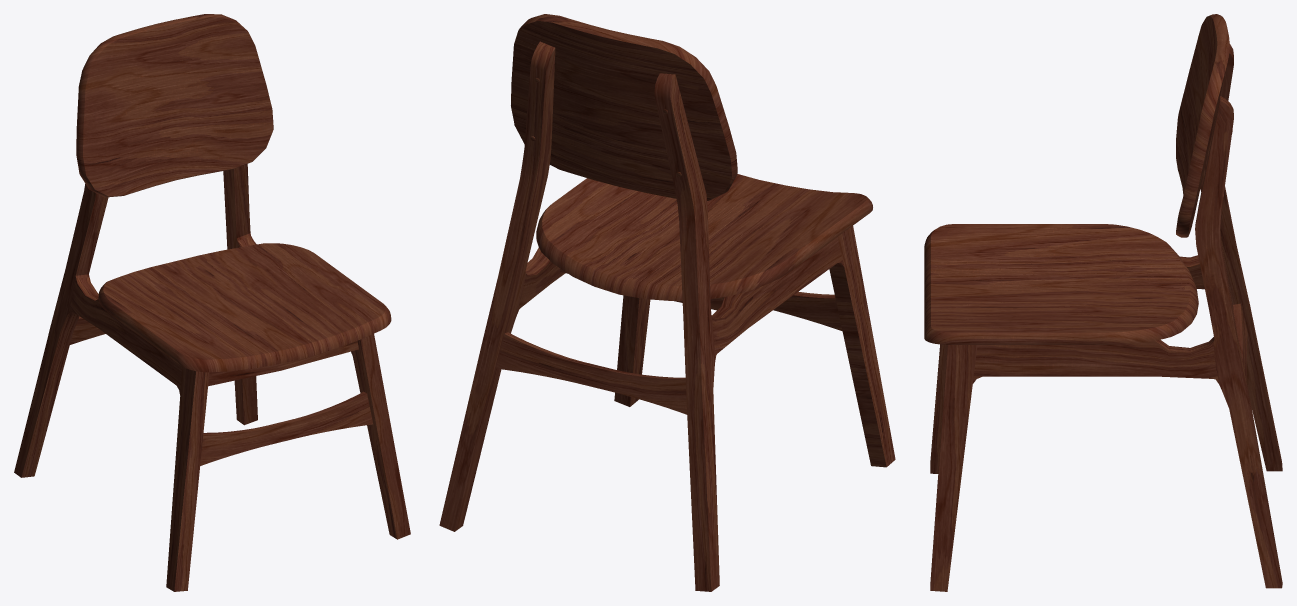
Rendered from wayan_dining_chair.glb.
3 views of the same model, side by side, from view 1: azimuth 30°, elevation 25°; view 2: azimuth 150°, elevation 25°; view 3: azimuth 270°, elevation 25° (orthographic). The views are drawn at different scales.
Parts seen in each view (by area): view 1: Wayan Dining Chair_0; view 2: Wayan Dining Chair_0; view 3: Wayan Dining Chair_0.
Boxes of the visible parts, x1,y1,x2,y2 form: Wayan Dining Chair_0: (14,14,410,591); Wayan Dining Chair_0: (439,14,895,591); Wayan Dining Chair_0: (924,14,1282,591).
Size of the model in its own units: 0.5242 by 0.9401 by 0.6257.
Materials: 1 (1 with a texture image).
